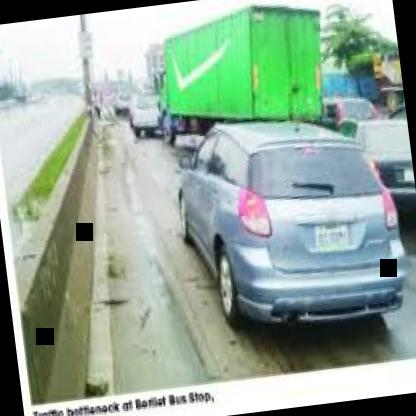car: (147, 81, 416, 362)
